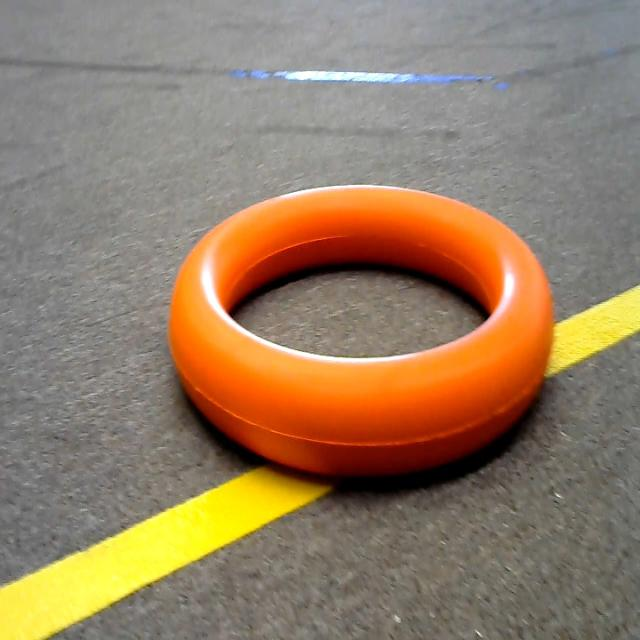note: (157, 170, 593, 498)
